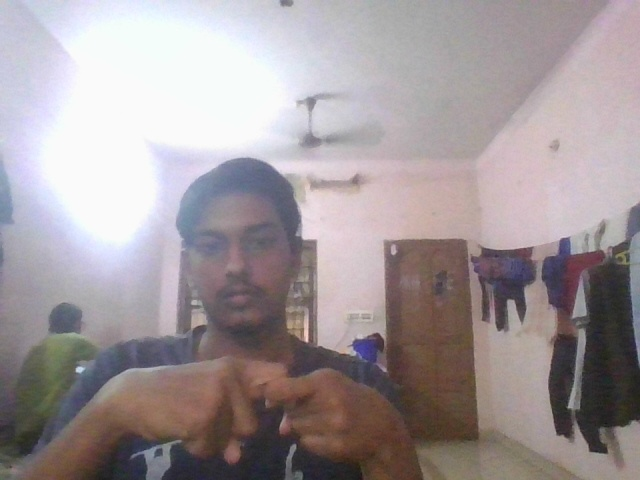friend: (106, 351, 395, 465)
